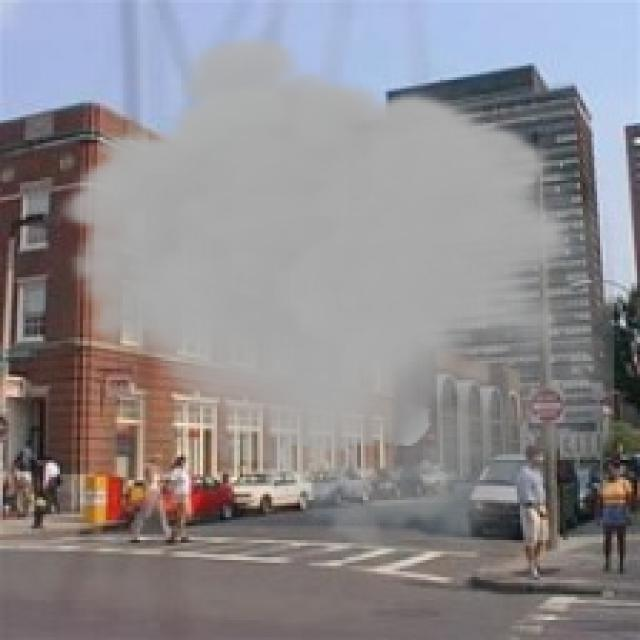smoke: (57, 31, 614, 566)
